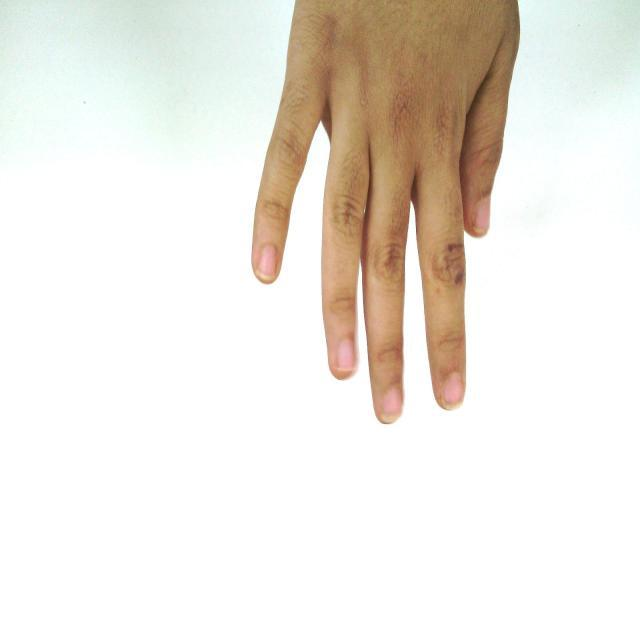Fingernail: (441, 372, 465, 411), (381, 386, 402, 423), (256, 246, 277, 282), (473, 197, 491, 234), (337, 339, 355, 371)
